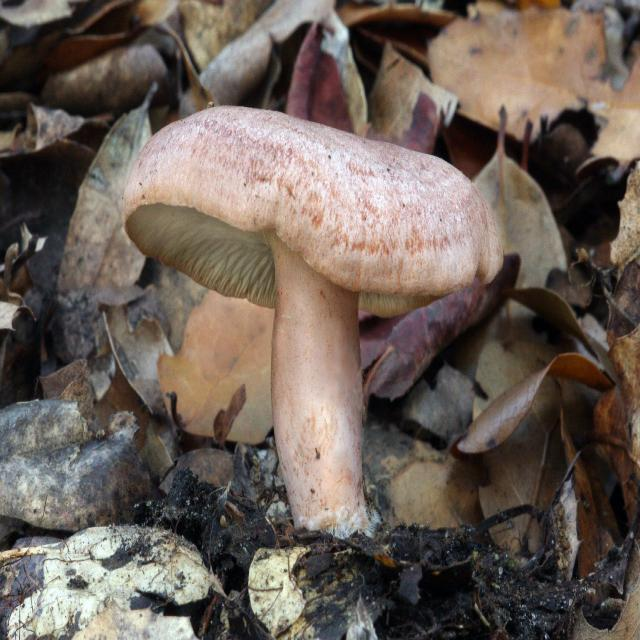Armillaria mellea: (122, 105, 491, 544)
